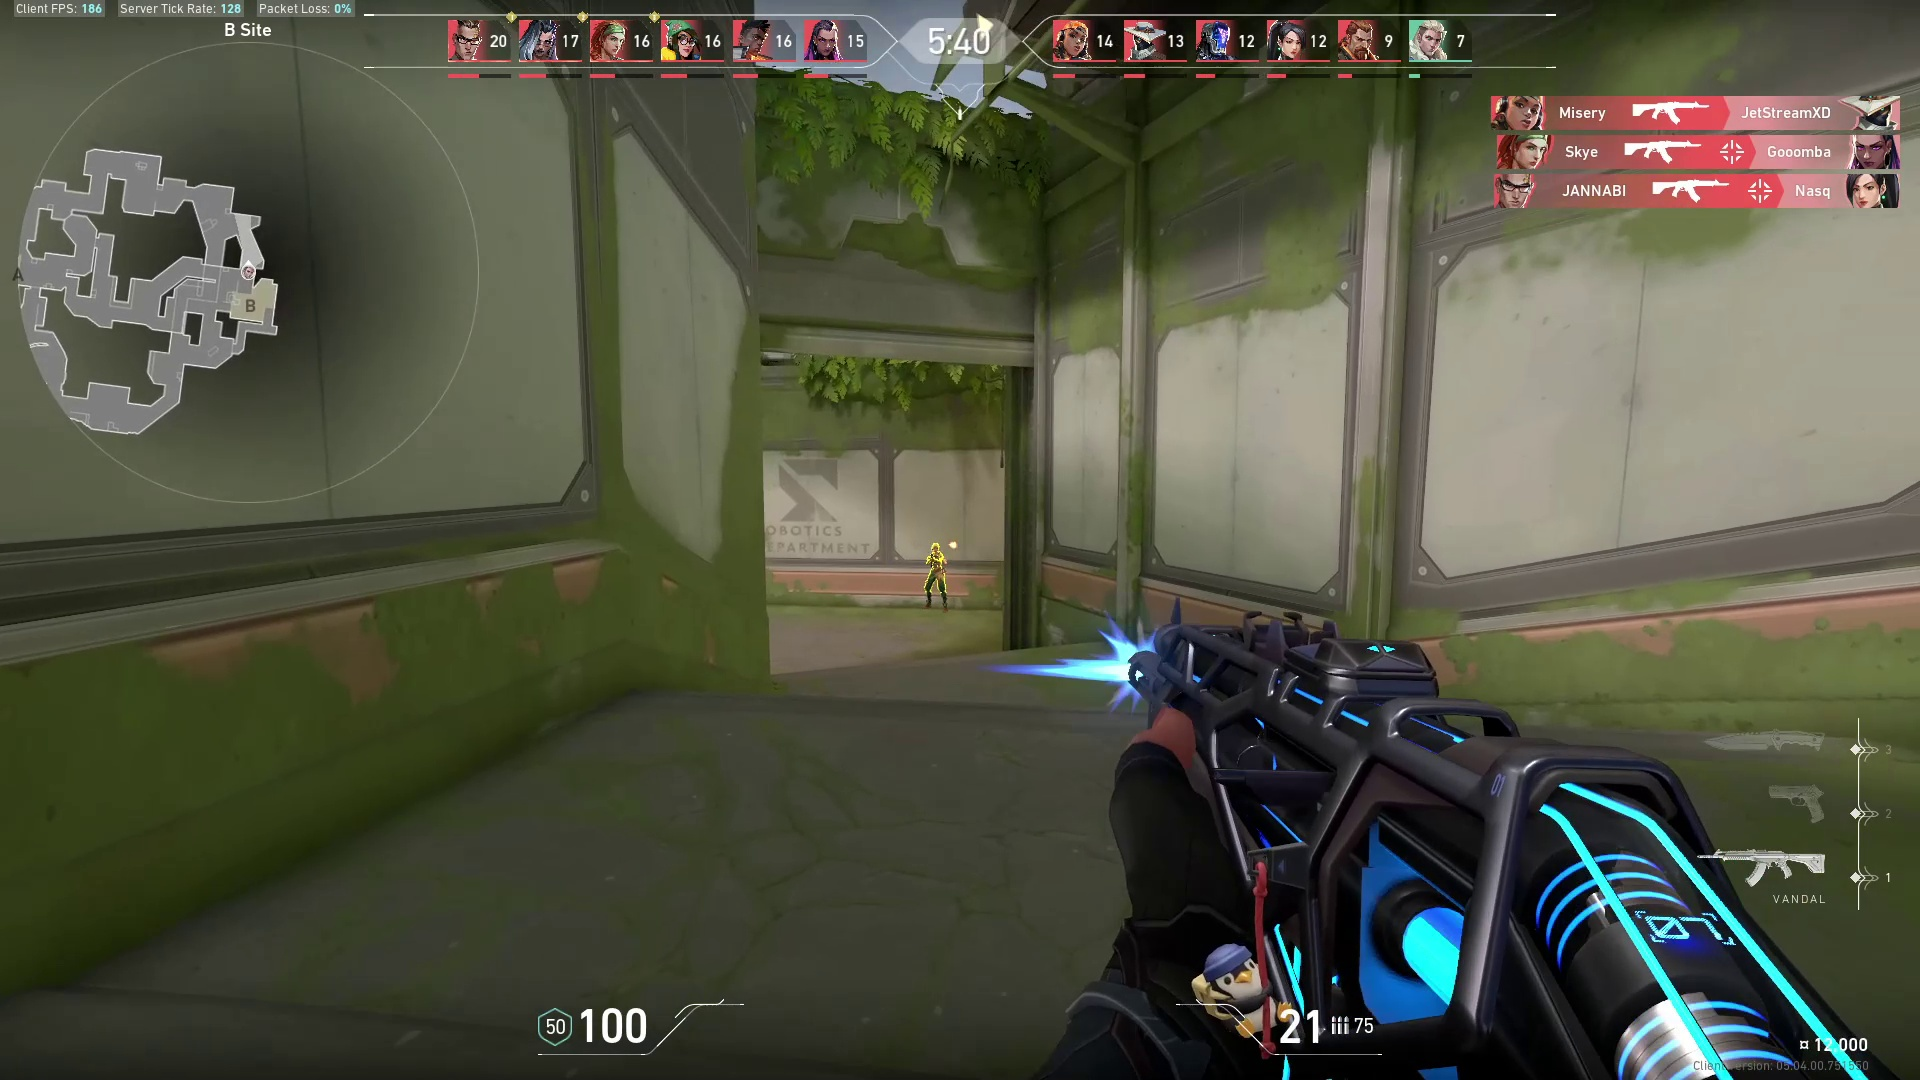enemy_body: (923, 555, 951, 612)
enemy_head: (928, 541, 942, 556)
